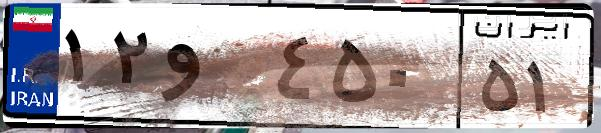0: (385, 28, 445, 110)
1: (57, 26, 110, 100), (525, 38, 570, 115)
2: (110, 28, 158, 98)
4: (270, 28, 330, 110)
5: (330, 28, 385, 110), (475, 38, 525, 113)
و: (158, 20, 270, 120)
